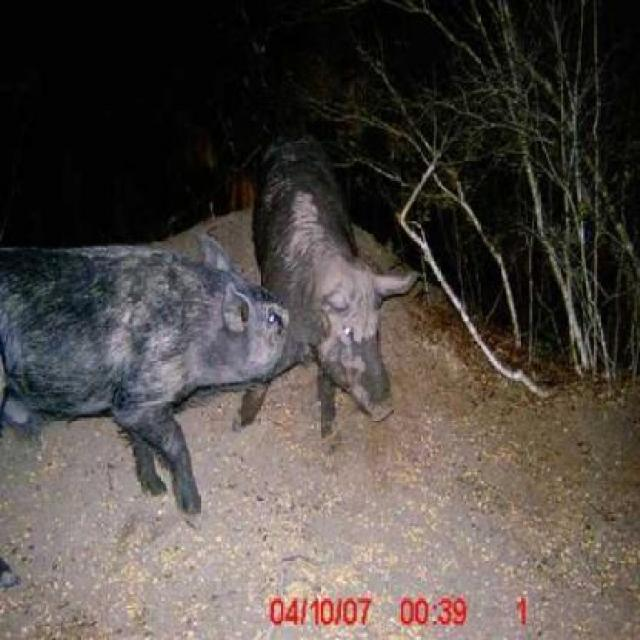pig: (214, 98, 468, 490), (0, 231, 288, 575)
